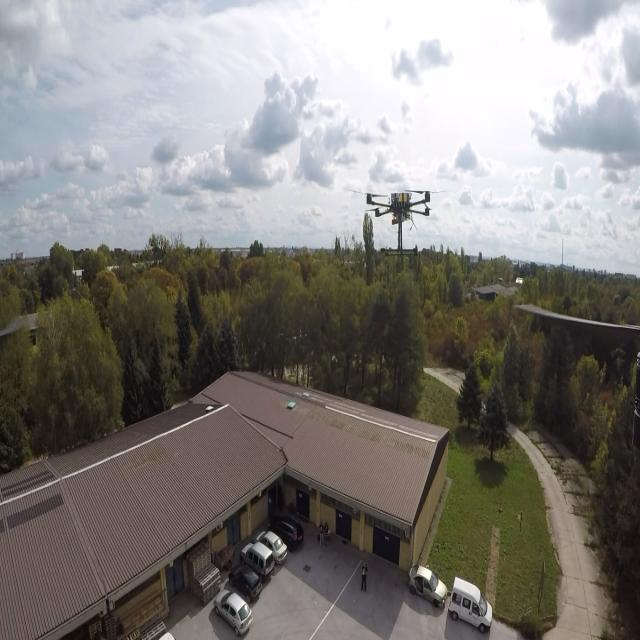UAV: (357, 173, 442, 255)
